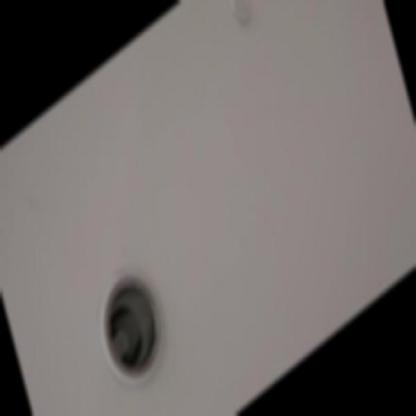light_off: (55, 215, 186, 415)
